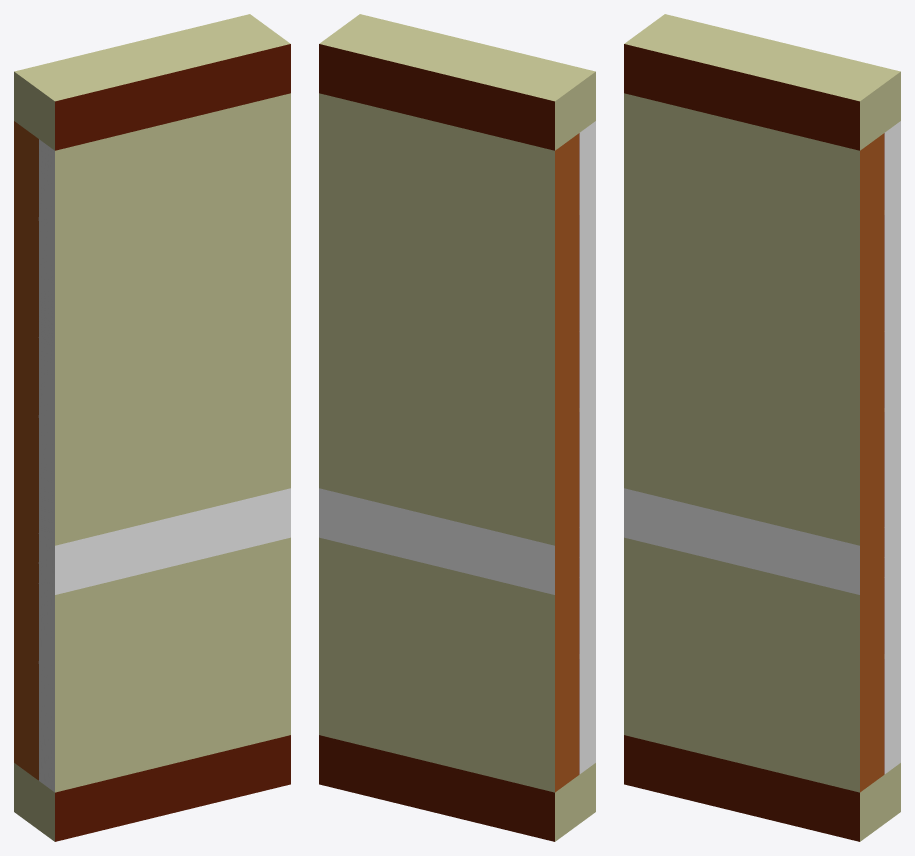
File: Wall_1x3.fbx
The picture shows the model from 3 angles, left to right: view 1: azimuth 30°, elevation 25°; view 2: azimuth 150°, elevation 25°; view 3: azimuth 330°, elevation 25°; orthographic projection.
Visible parts, largest first — view 1: Wall_1x3; view 2: Wall_1x3; view 3: Wall_1x3.
Boxes of the visible parts, left/top/right/bottom form: Wall_1x3: left=14, top=14, right=290, bottom=841; Wall_1x3: left=319, top=14, right=595, bottom=841; Wall_1x3: left=624, top=14, right=900, bottom=841.
Bounding box in the file's own units: 100 × 300 × 30.
